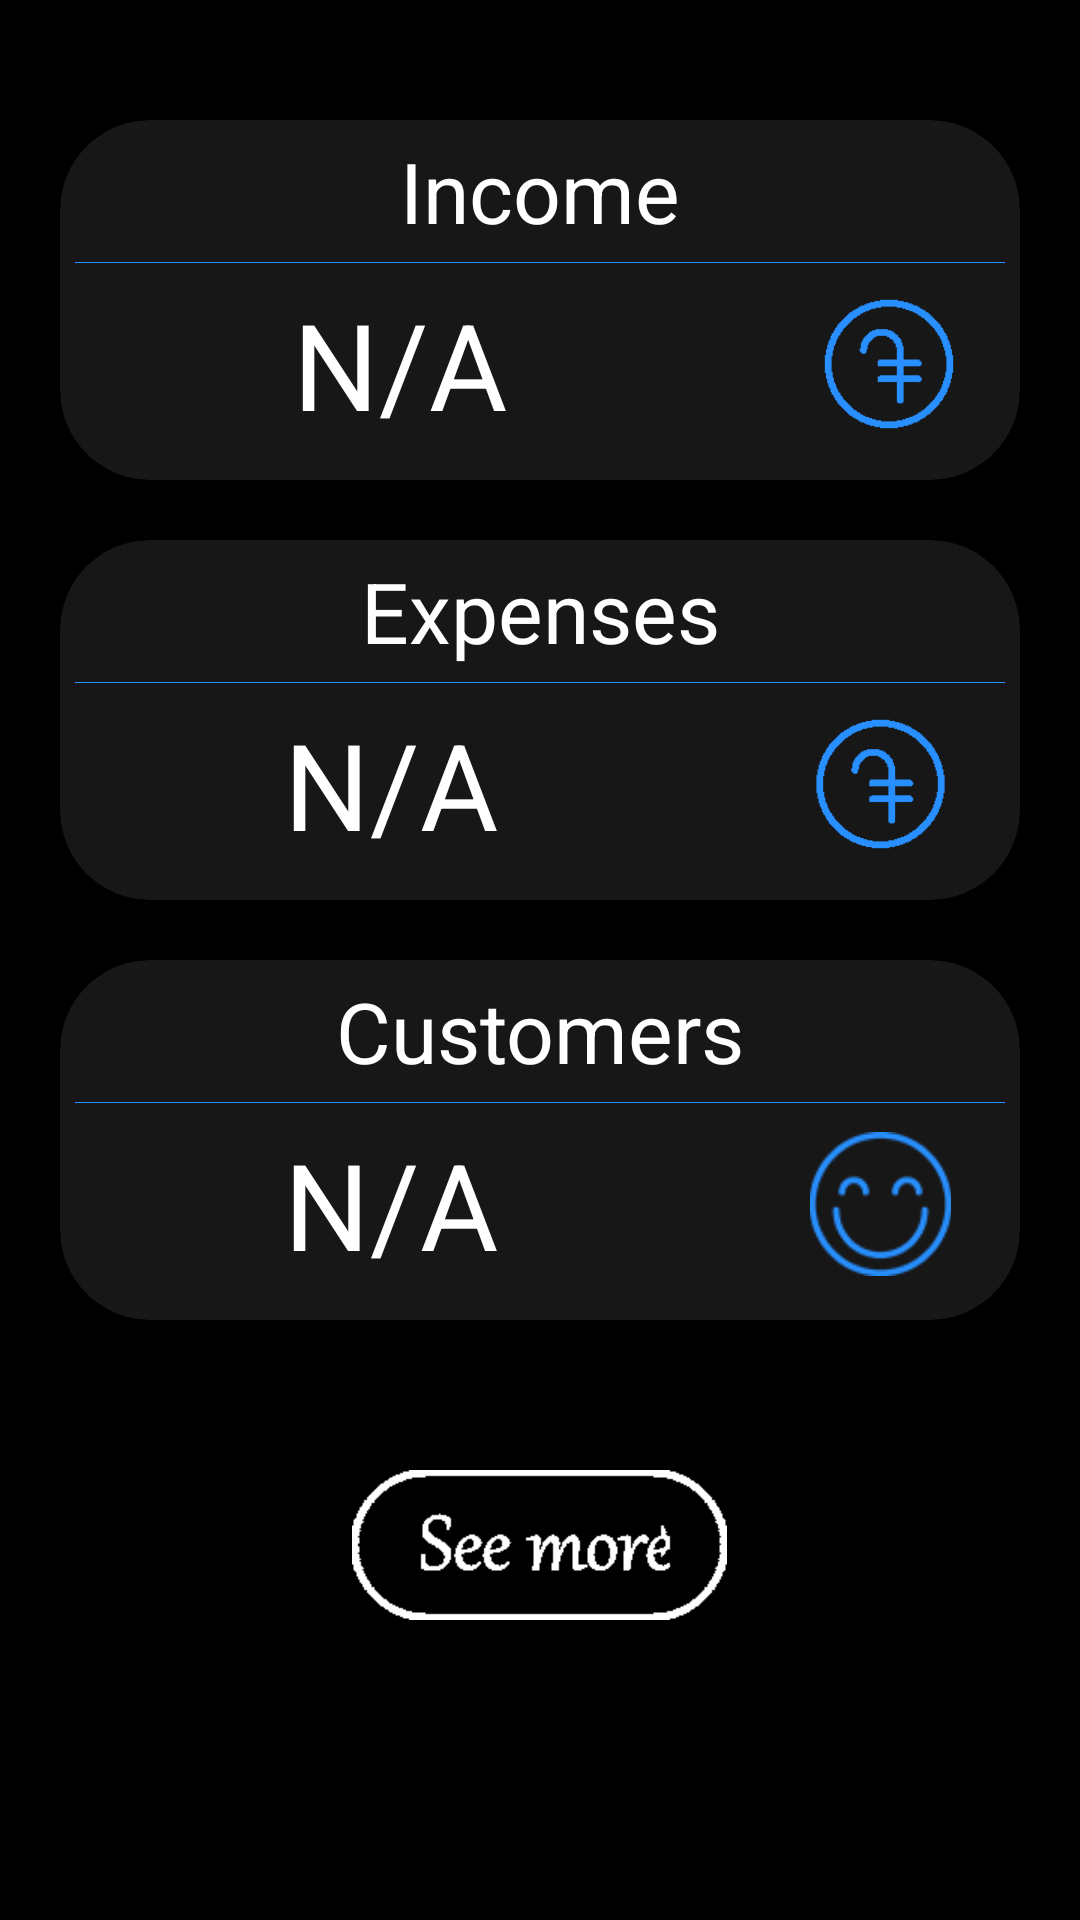

Screen size 1080 x 1920. Icon name, then its box in pixels as (x1, y1, x2, y2):
amd low: (824, 299, 954, 429), (816, 719, 945, 849)
happy face low: (810, 1132, 951, 1276)
